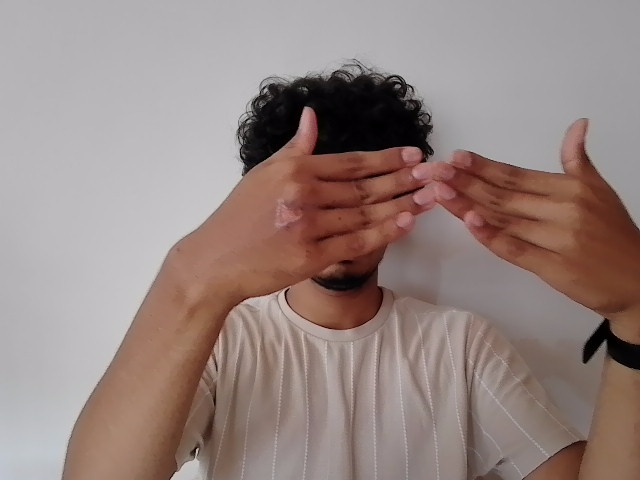family: (163, 104, 640, 306)
